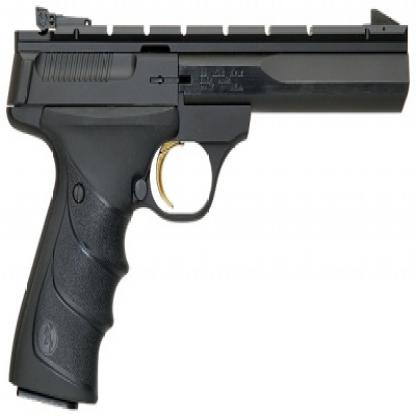Guns: (5, 2, 415, 414)
